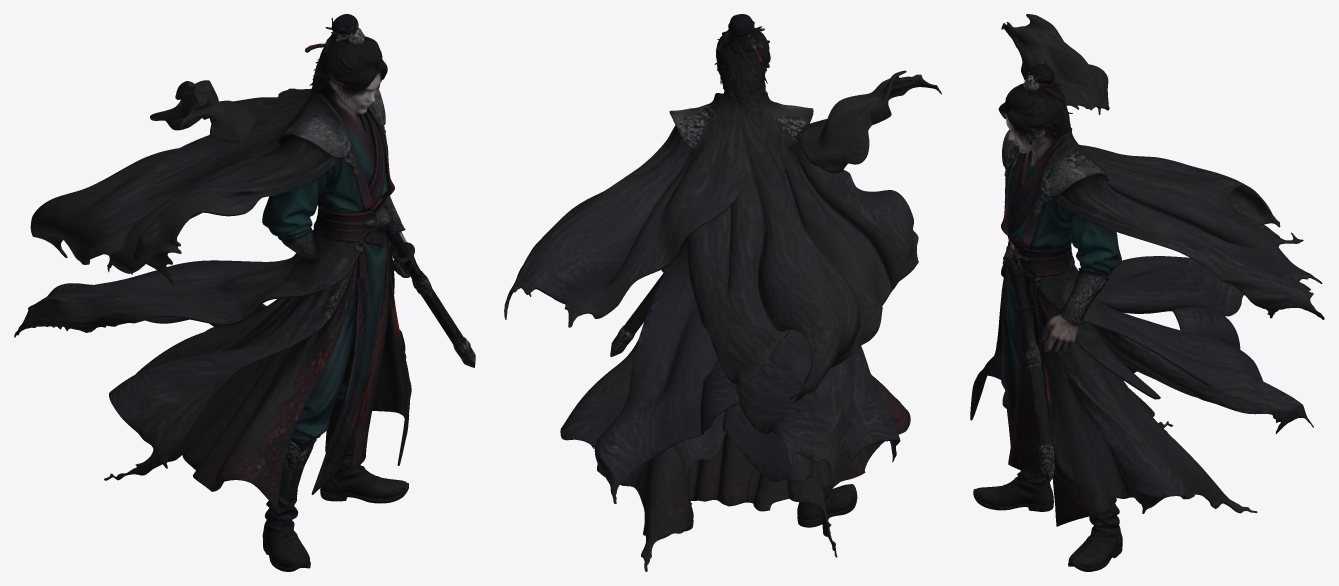
File: sqs_web.glb
3 views of the same model, side by side, from view 1: azimuth 30°, elevation 25°; view 2: azimuth 150°, elevation 25°; view 3: azimuth 270°, elevation 25° (orthographic). The views are drawn at different scales.
Parts seen in each view (by area): view 1: node_0; view 2: node_0; view 3: node_0.
Part boxes in pixels (box(x1,y1,x2,y2)): node_0: box(14, 14, 475, 571); node_0: box(504, 14, 941, 571); node_0: box(970, 14, 1324, 571).
Size of the model in its own units: 0.7136 by 1.01 by 0.6859.
Materials: 1 (1 with a texture image).
